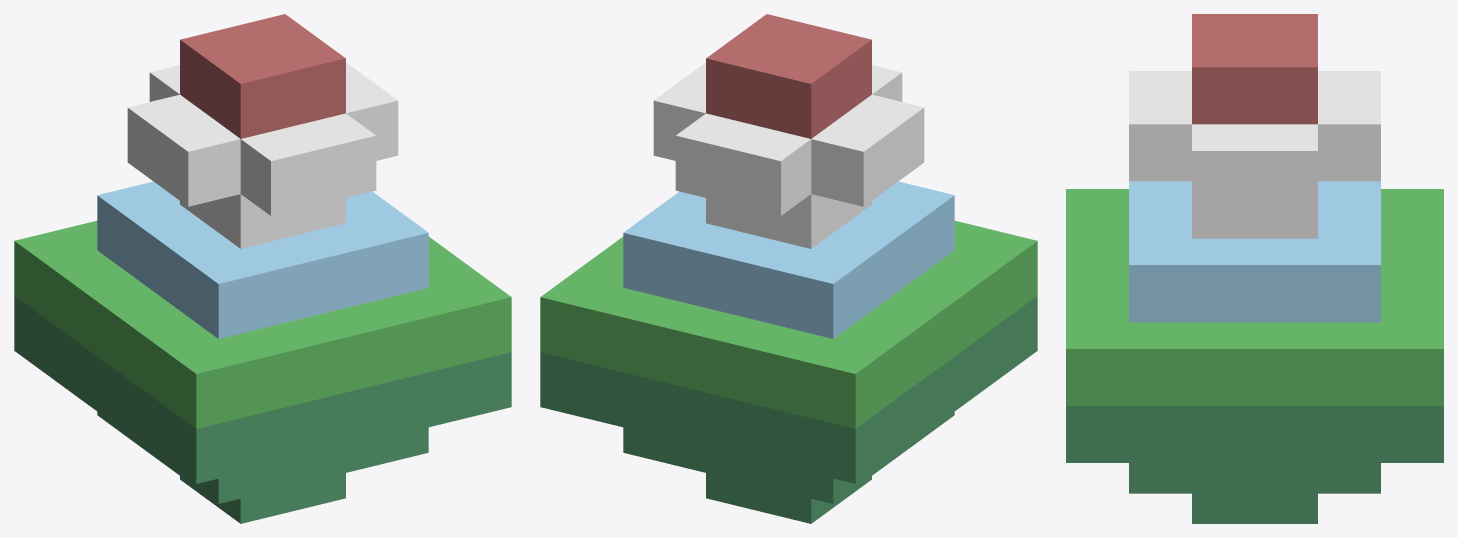
Rendered from stamina_potion.obj.
The picture shows the model from 3 angles, left to right: view 1: azimuth 30°, elevation 25°; view 2: azimuth 150°, elevation 25°; view 3: azimuth 270°, elevation 25°; orthographic projection. The views are drawn at different scales.
Visible parts, largest first — view 1: stamina_potion; view 2: stamina_potion; view 3: stamina_potion.
Boxes of the visible parts, bbox=[...] form: stamina_potion: bbox=[14, 14, 511, 523]; stamina_potion: bbox=[540, 14, 1037, 523]; stamina_potion: bbox=[1066, 14, 1443, 523].
Size of the model in its own units: 3.24 by 4.33 by 3.24.
Materials: 1 (1 with a texture image).
